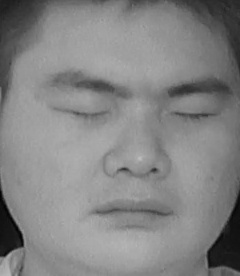blink: (174, 98, 221, 132), (60, 96, 111, 127)
mouth: (90, 184, 173, 234)
